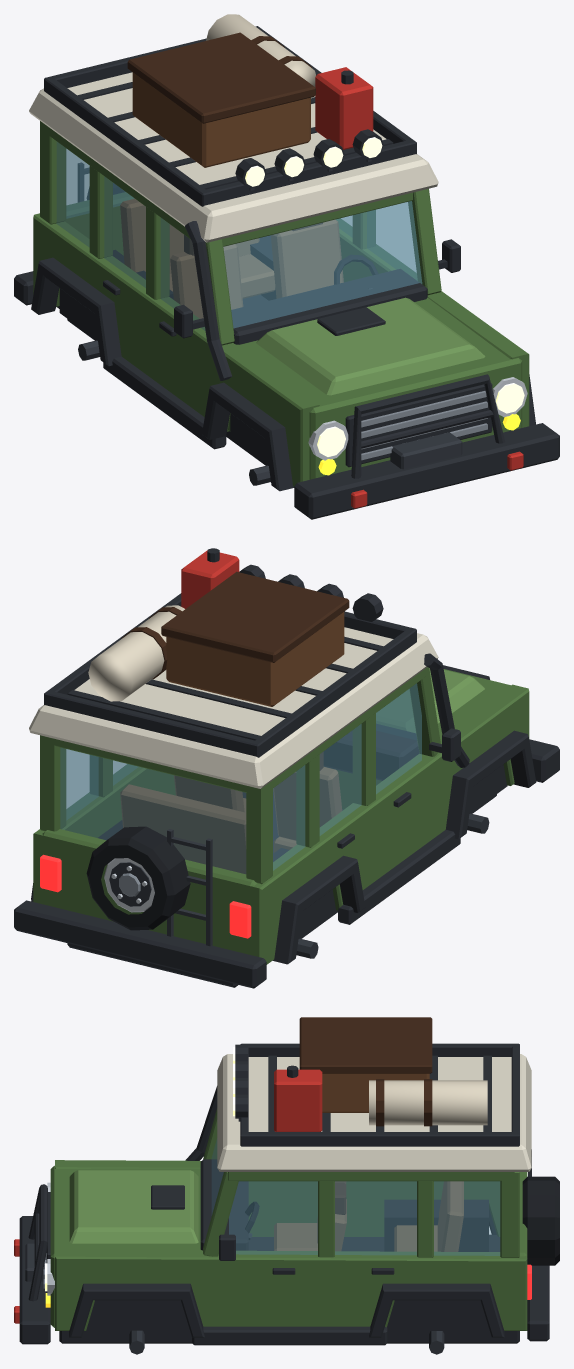
File: offroad_chassis.glb
The picture shows the model from 3 angles, top to bottom: view 1: azimuth 30°, elevation 25°; view 2: azimuth 150°, elevation 25°; view 3: azimuth 270°, elevation 25°; orthographic projection. The views are drawn at different scales.
Parts seen in each view (by area): view 1: offroad_chassis; view 2: offroad_chassis; view 3: offroad_chassis.
Boxes of the visible parts, <box> form: offroad_chassis: <box>14,14,559,519</box>; offroad_chassis: <box>14,548,559,988</box>; offroad_chassis: <box>14,1017,559,1354</box>.
Bounding box in the file's own units: 2 × 2.1 × 3.86.
2 materials, 2 textured.
